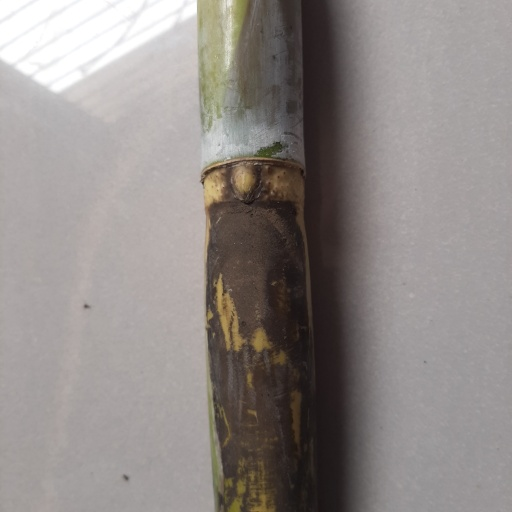Bud: (229, 163, 259, 204)
